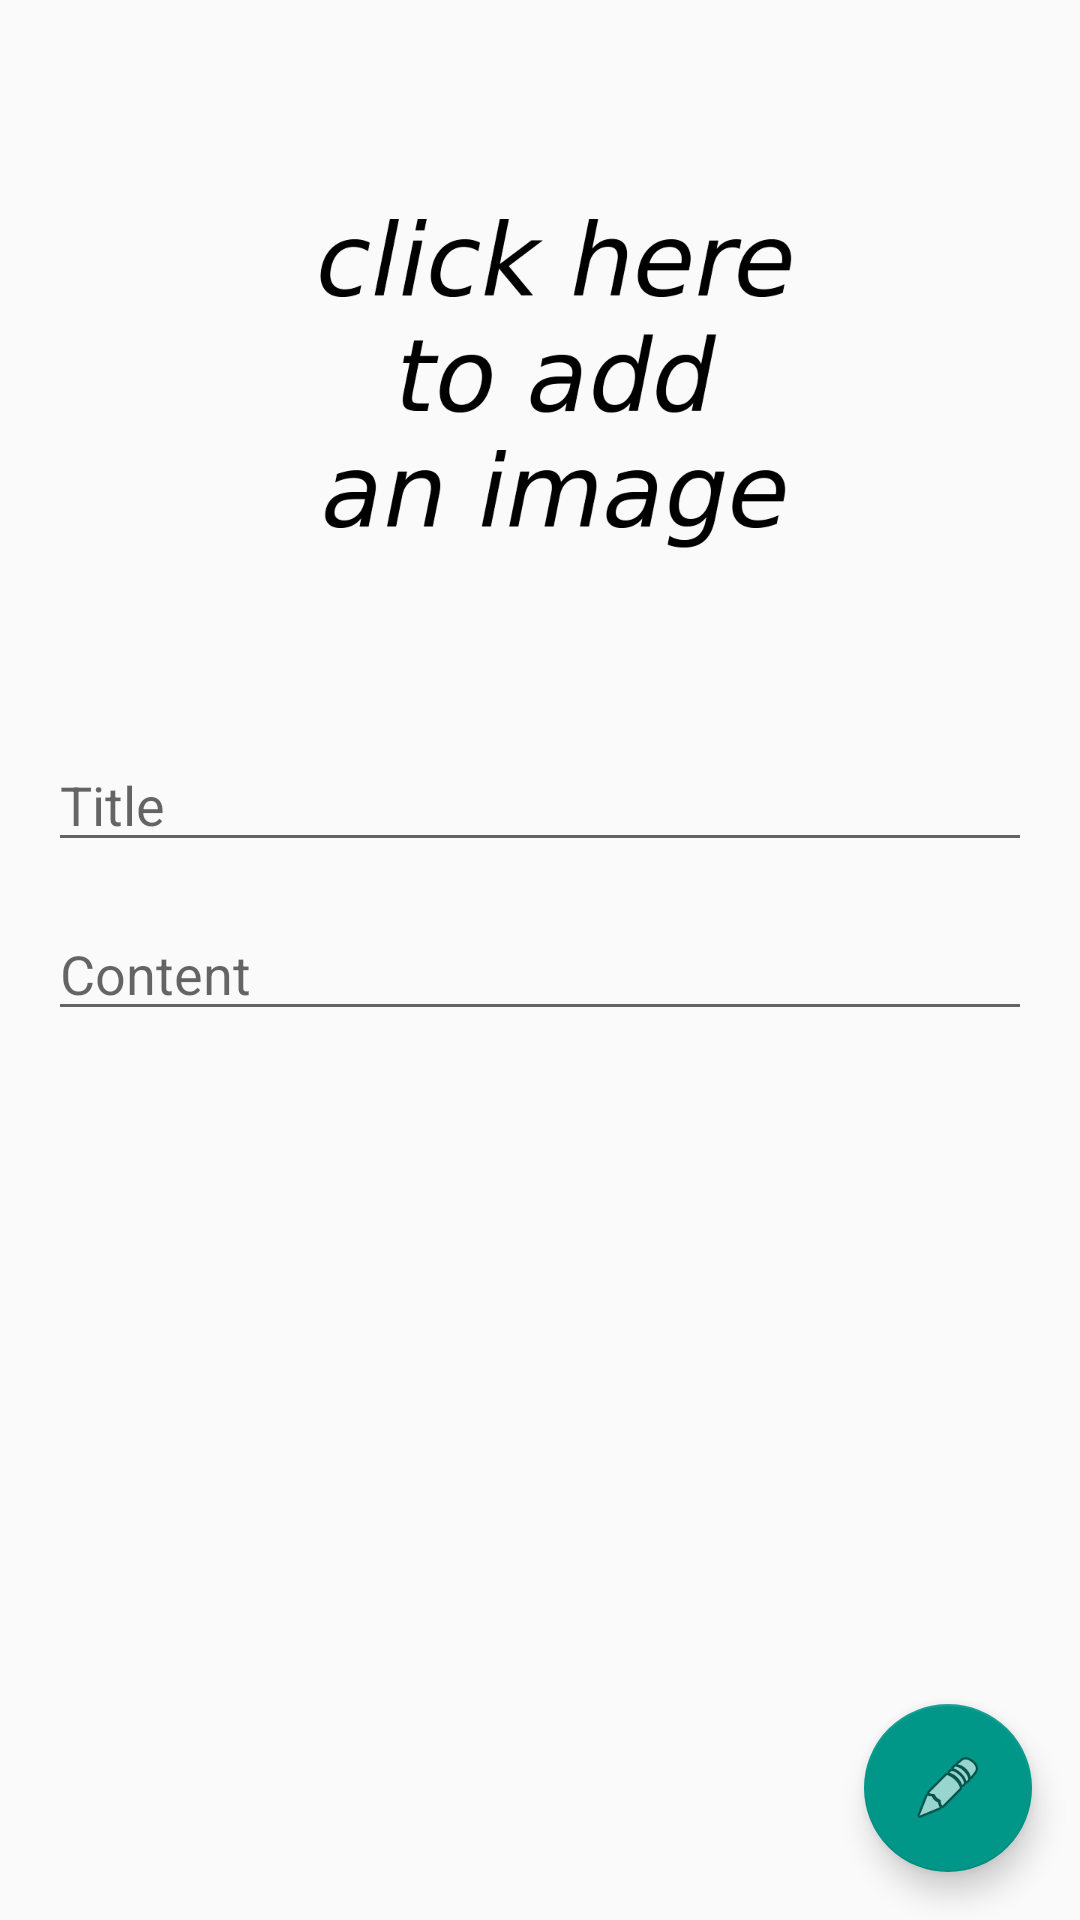

Icon click points for this 1080 × 1920 phone screenshot, format (x,y):
edit: (948,1788)
